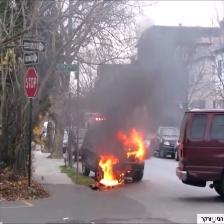fire: (97, 125, 151, 192), (107, 127, 148, 165)
smoke: (106, 68, 178, 122)
